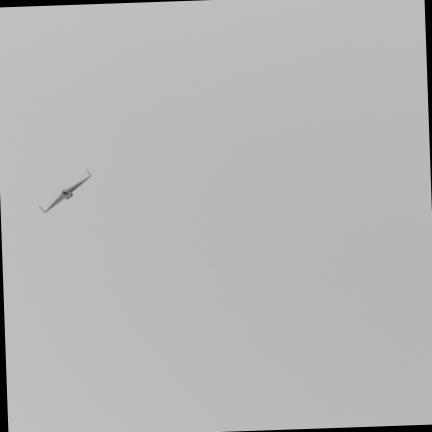Shahed: (42, 173, 90, 213)
